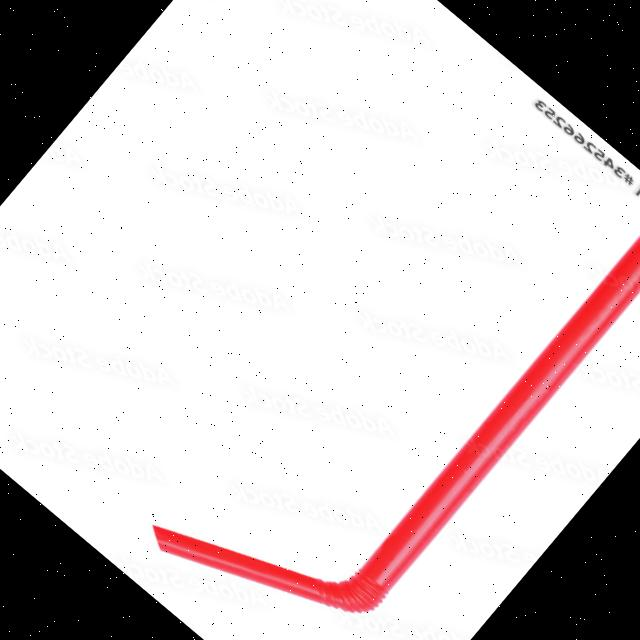plastic: (96, 80, 640, 640)
